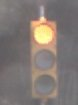Red: (26, 12, 63, 105)
